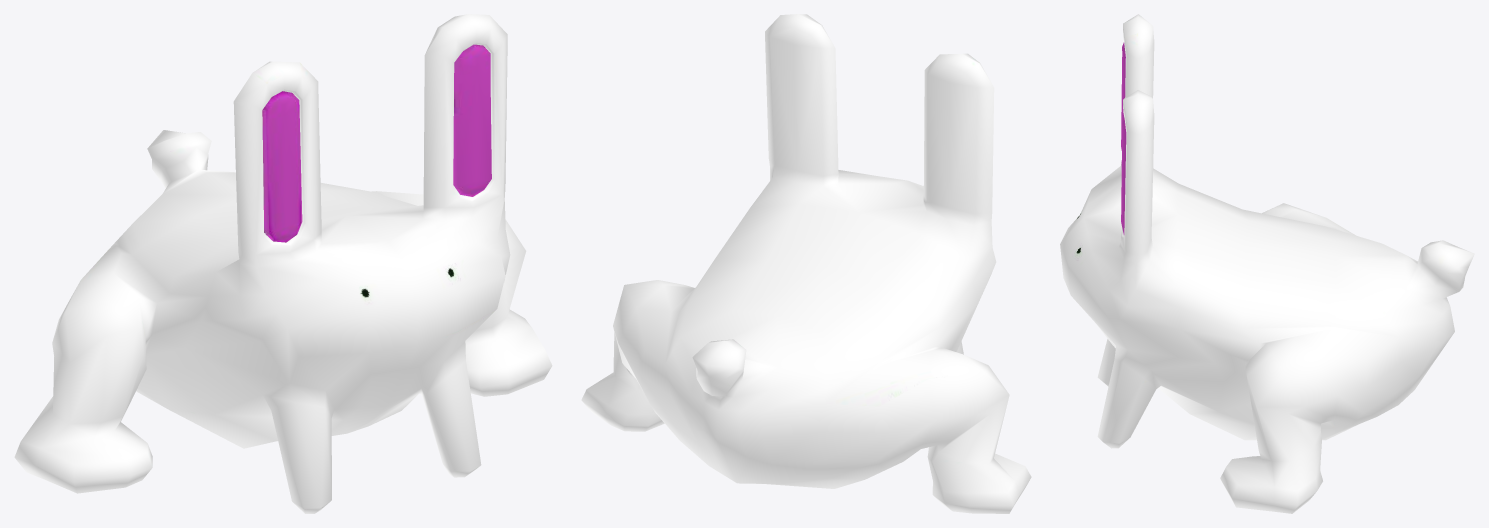
File: ribbunny_model_white.gltf
3 renders of one model, left to right at view 1: azimuth 30°, elevation 25°; view 2: azimuth 150°, elevation 25°; view 3: azimuth 270°, elevation 25°, orthographic. The views are drawn at different scales.
Parts seen in each view (by area): view 1: Cube; view 2: Cube; view 3: Cube.
Part boxes in pixels (left/top/right/bottom): Cube: left=14, top=14, right=552, bottom=513; Cube: left=581, top=14, right=1031, bottom=513; Cube: left=1060, top=14, right=1474, bottom=513.
Size of the model in its own units: 1.27 by 1.04 by 1.09.
Materials: 1 (1 with a texture image).
